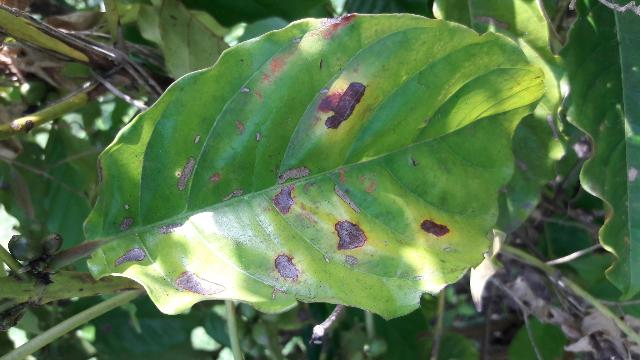rust_level_2: (83, 14, 542, 319)
